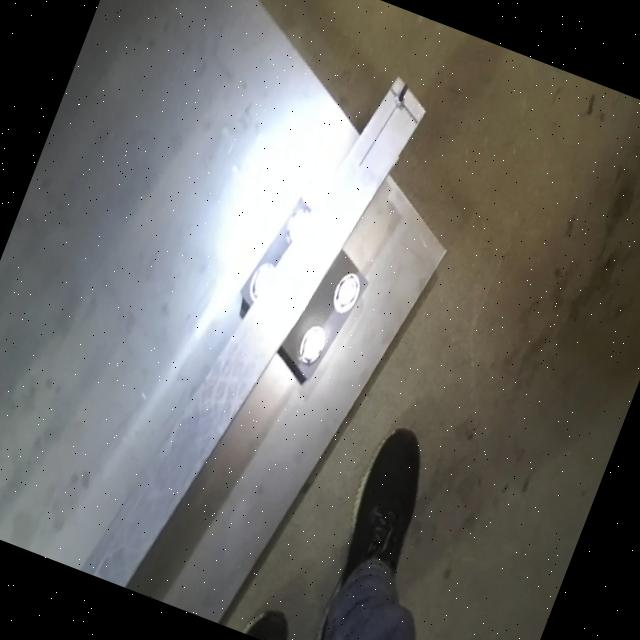blocks: (214, 182, 394, 389)
